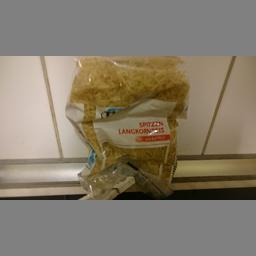rice: (63, 55, 191, 198)
